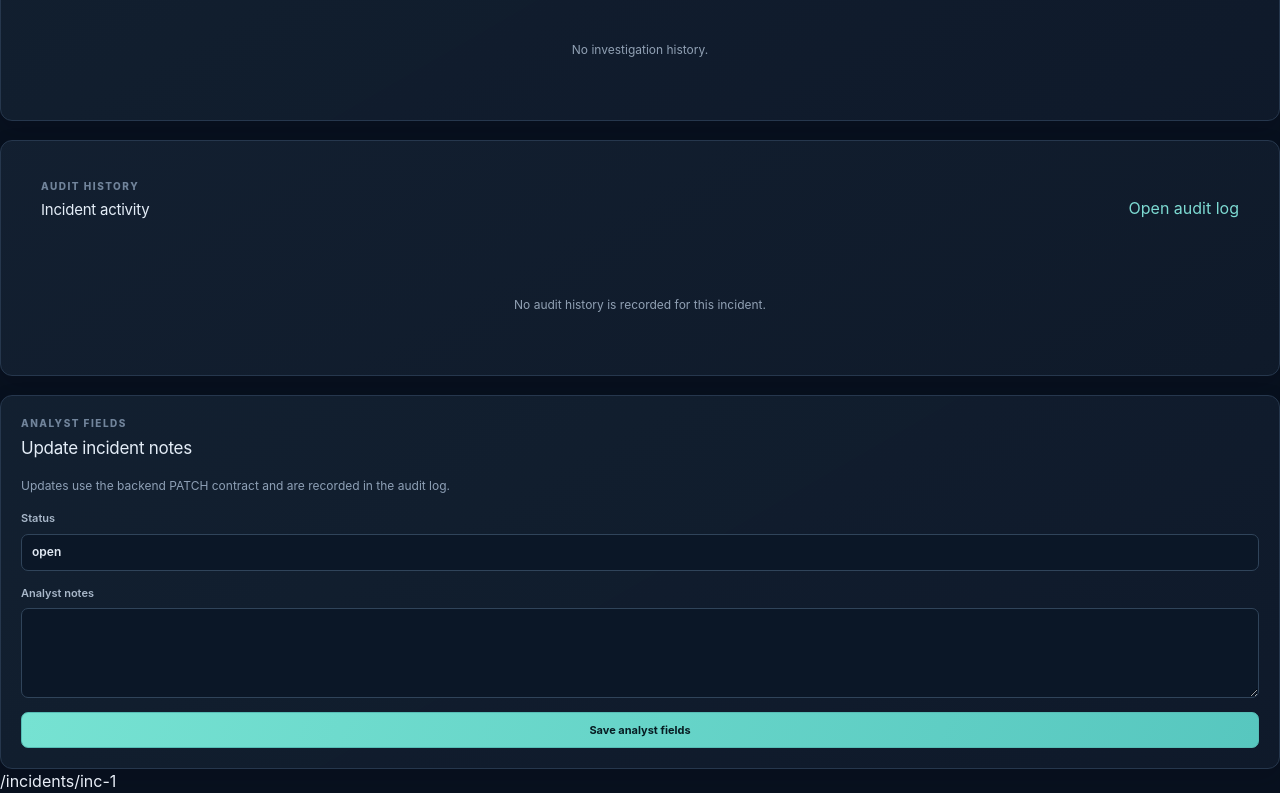
it: Phase 8A dashboard › shows 409 conflict dialog, allows Escape, and never retries the PATCH
(page scrolled)
Click the button "Save analyst fields" at [640, 730], box top-left (21, 712), bottom-right (1259, 748)
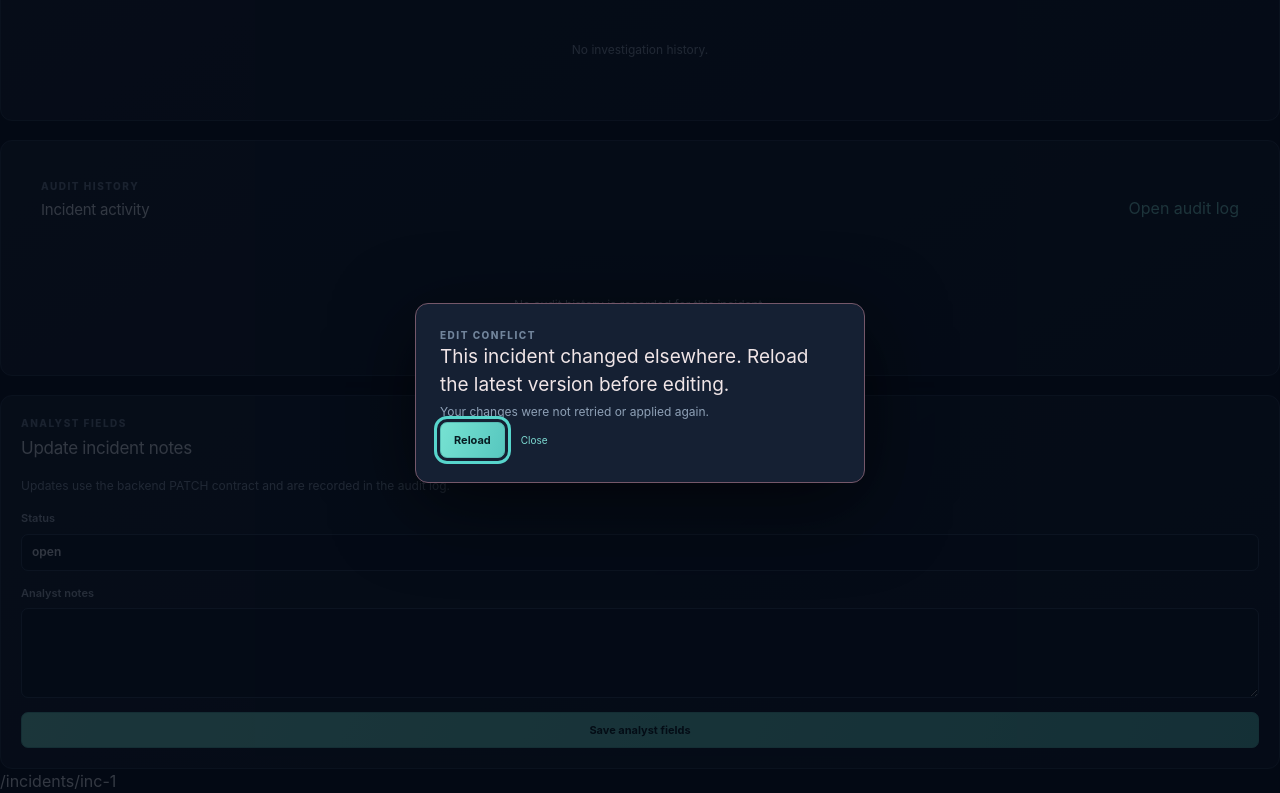
Result: the dialog shows "This incident changed elsewhere. Reload the latest version before editing." at top-left (440, 345), bottom-right (808, 396)
Press Escape
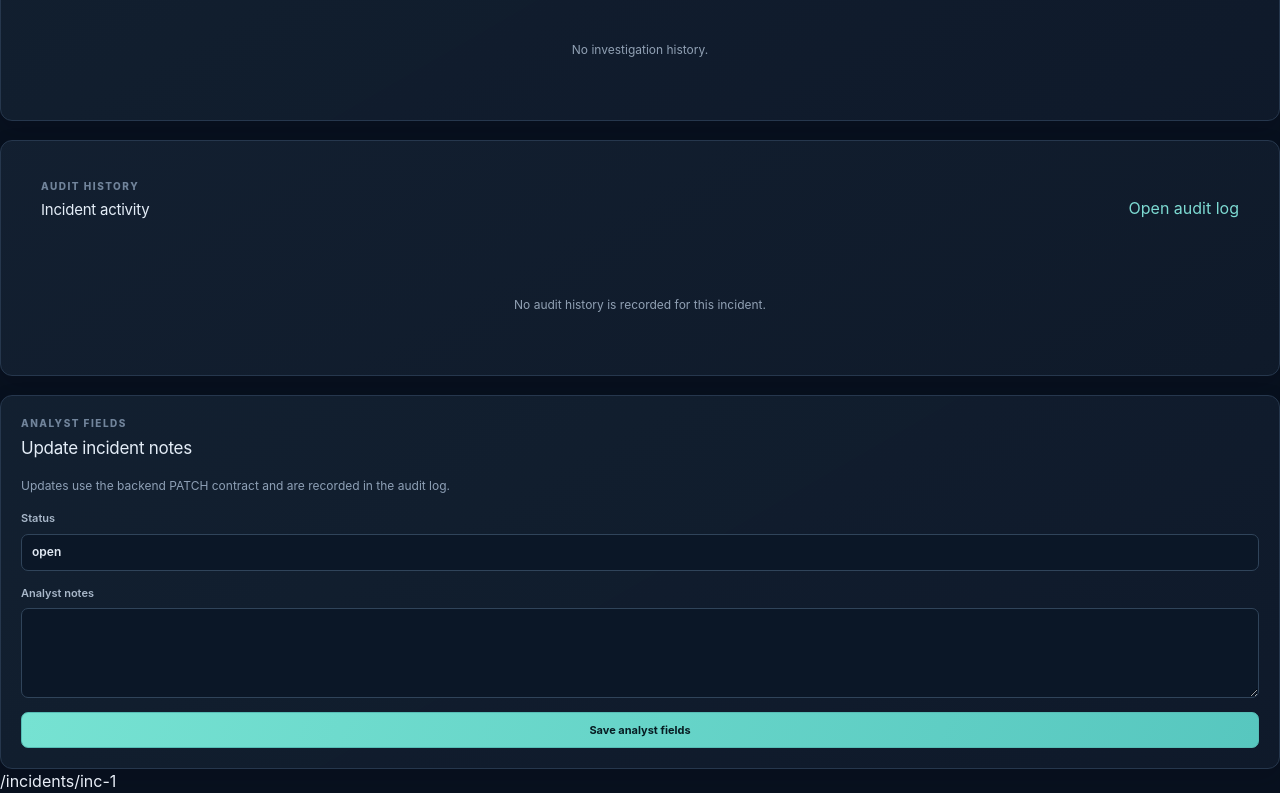
Result: the dialog is gone
